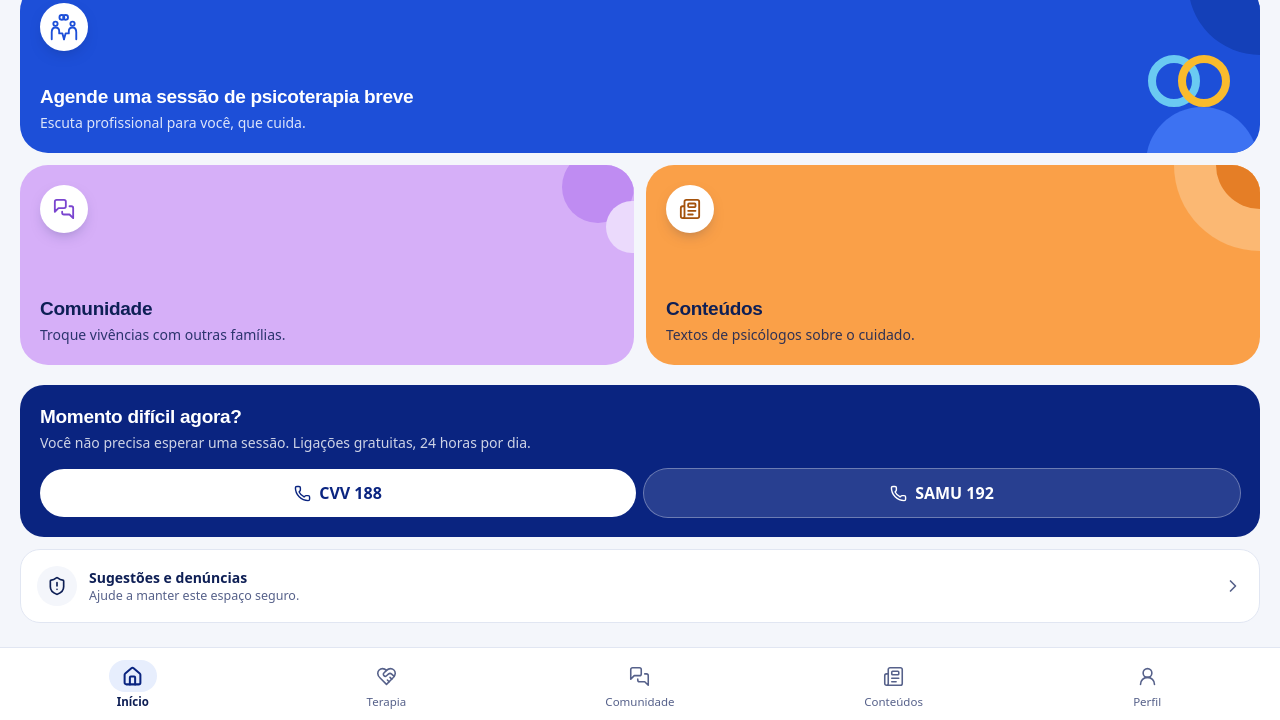
Test: Início › envia uma sugestão
(page scrolled)
Click the button "Sugestões e denúncias Ajude a manter este espaço seguro.": (57, 586) [20,549,1260,623]
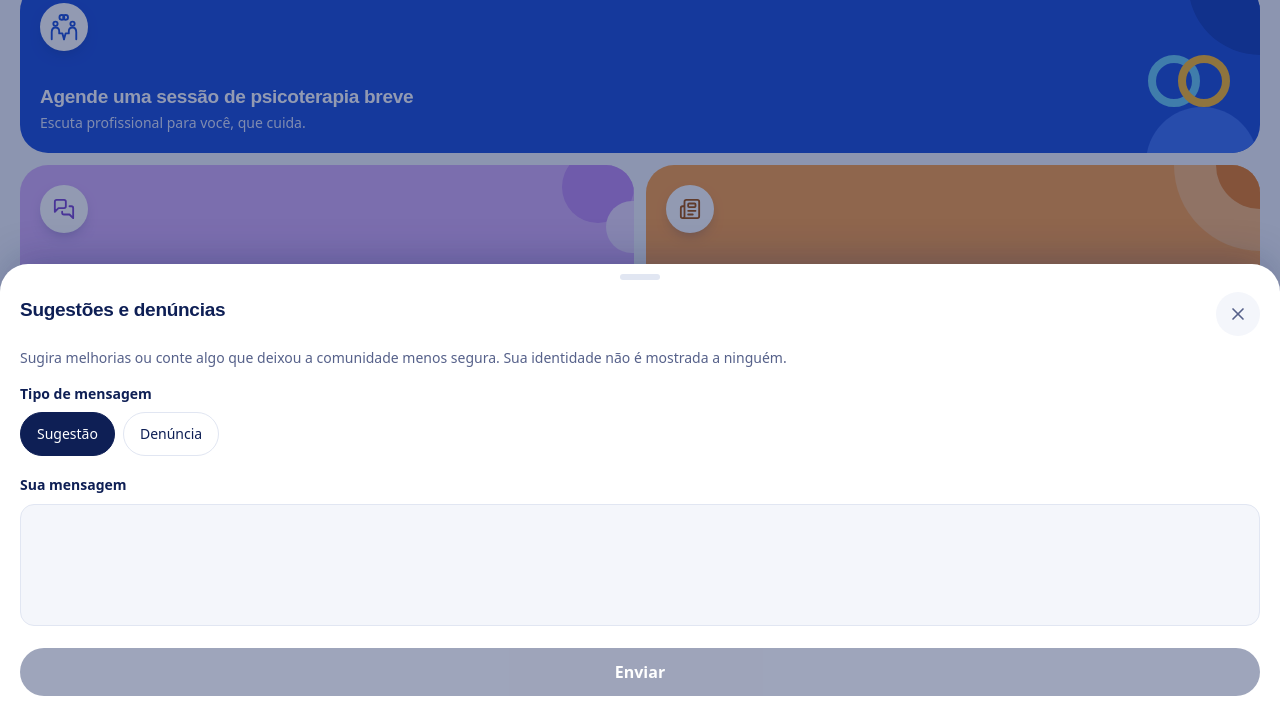
In the text box labelled "Sua mensagem": (640, 565) [20,504,1260,626], type "Um modo noturno ajudaria."
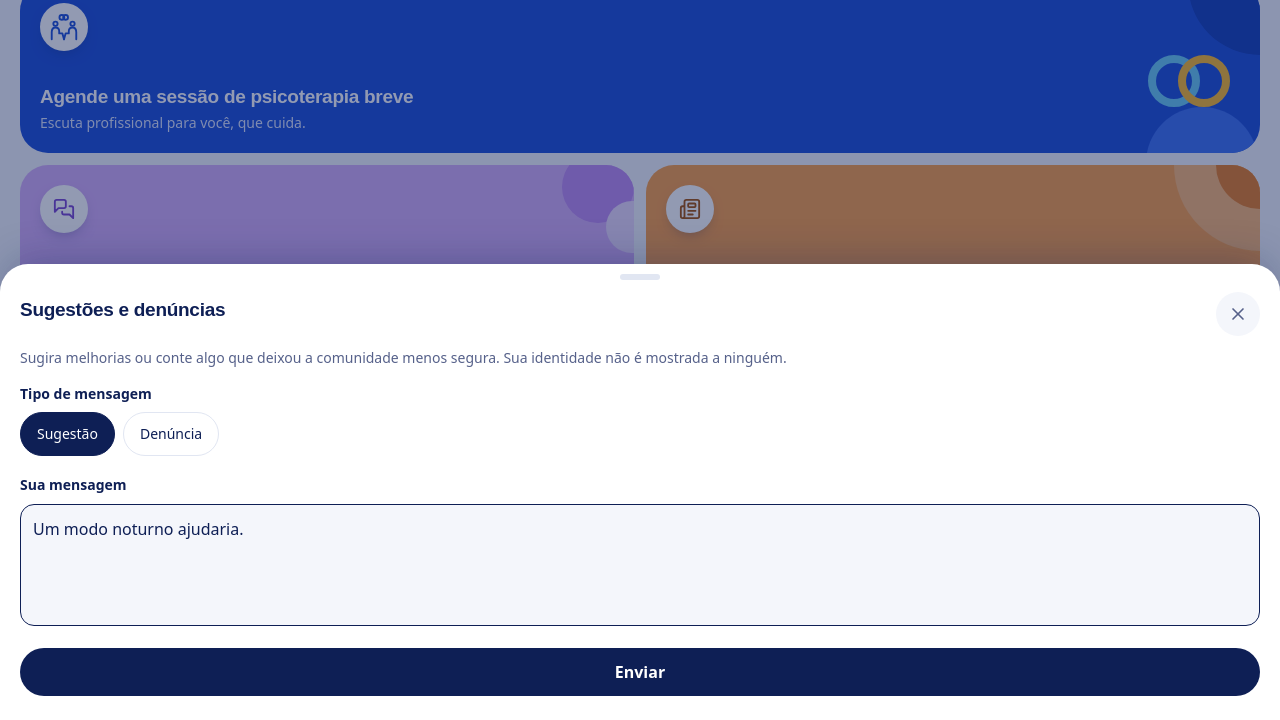
Click the button "Enviar": (640, 672) [20,648,1260,696]
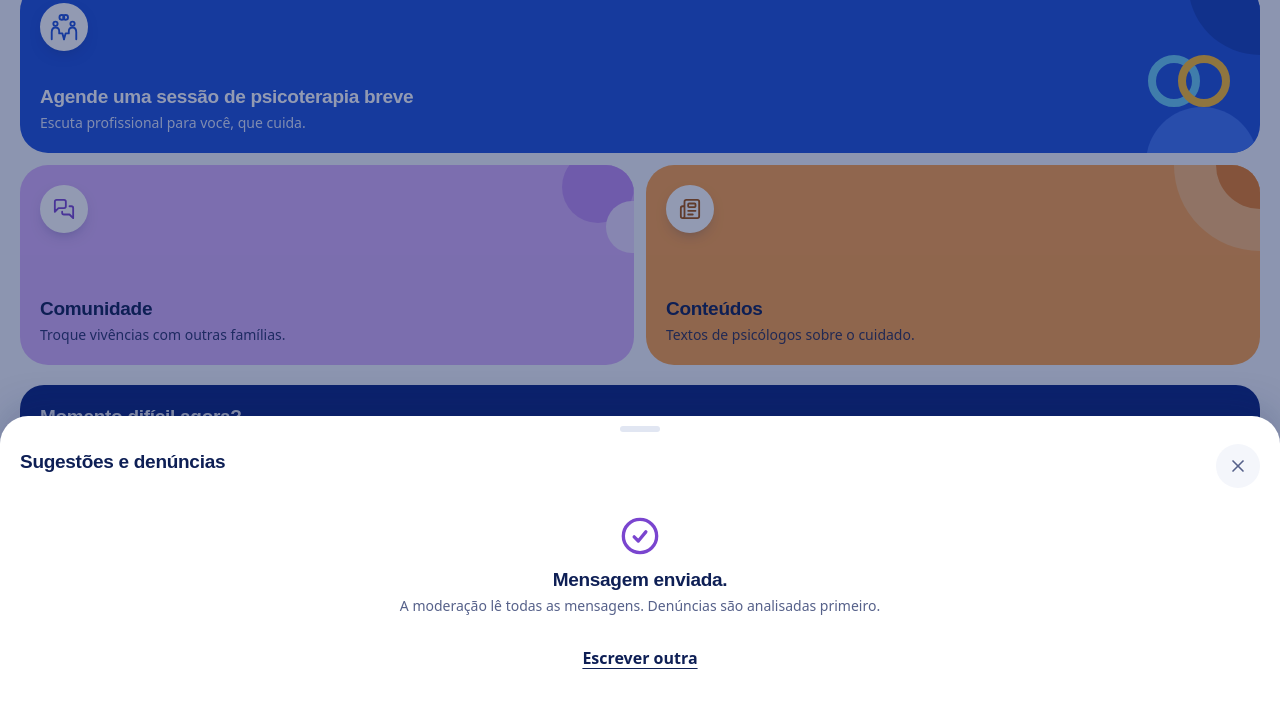
Now the text "Mensagem enviada." is shown, box [553,569,727,590]
